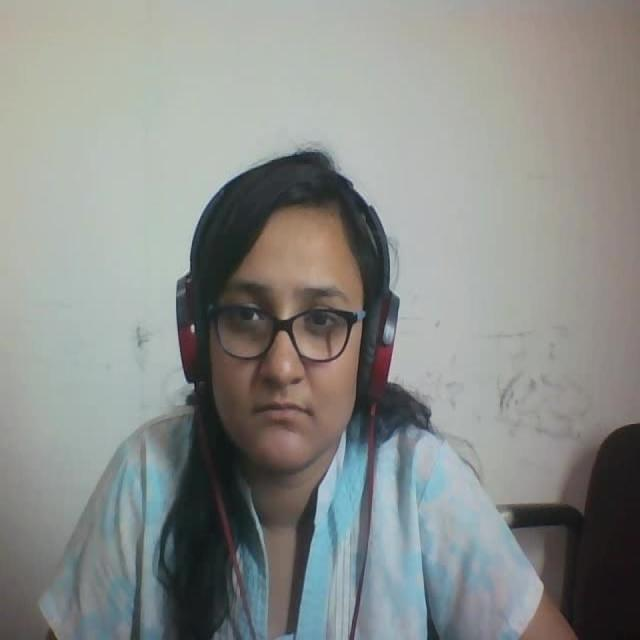Engaged: (154, 131, 427, 511)
